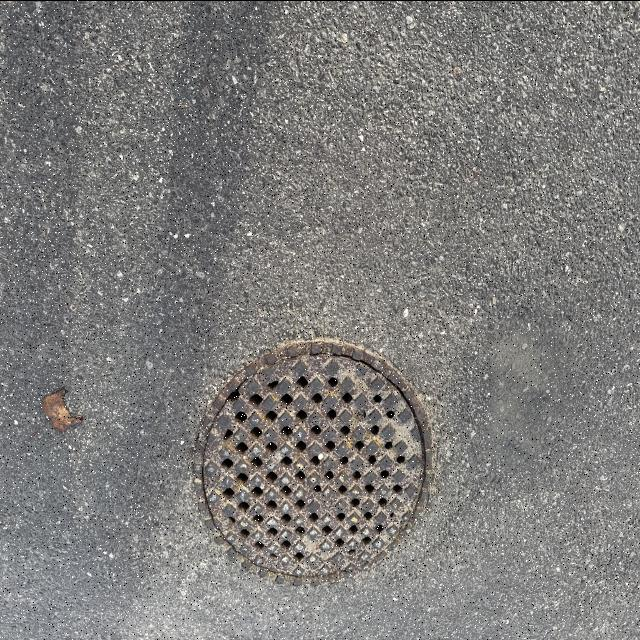Manhole: (195, 331, 426, 589)
